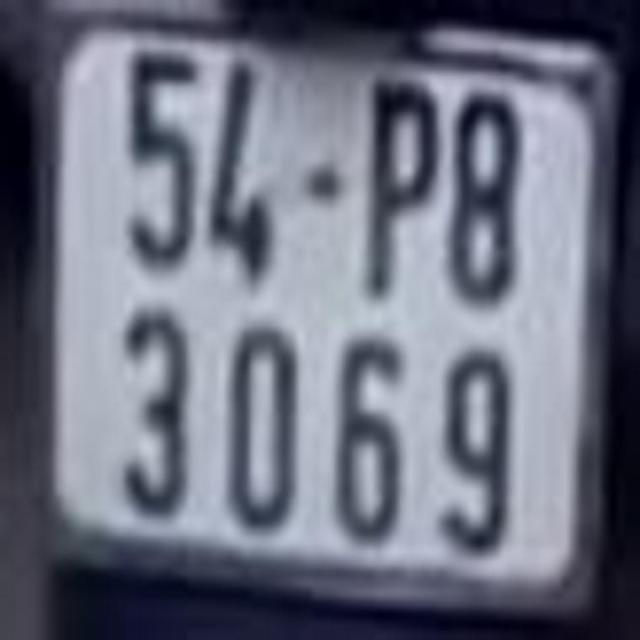0: (225, 322, 298, 528)
3: (122, 306, 194, 513)
4: (216, 61, 276, 292)
5: (126, 51, 198, 263)
6: (334, 331, 404, 548)
8: (454, 90, 516, 309)
9: (443, 347, 511, 552)
P: (368, 83, 437, 304)
